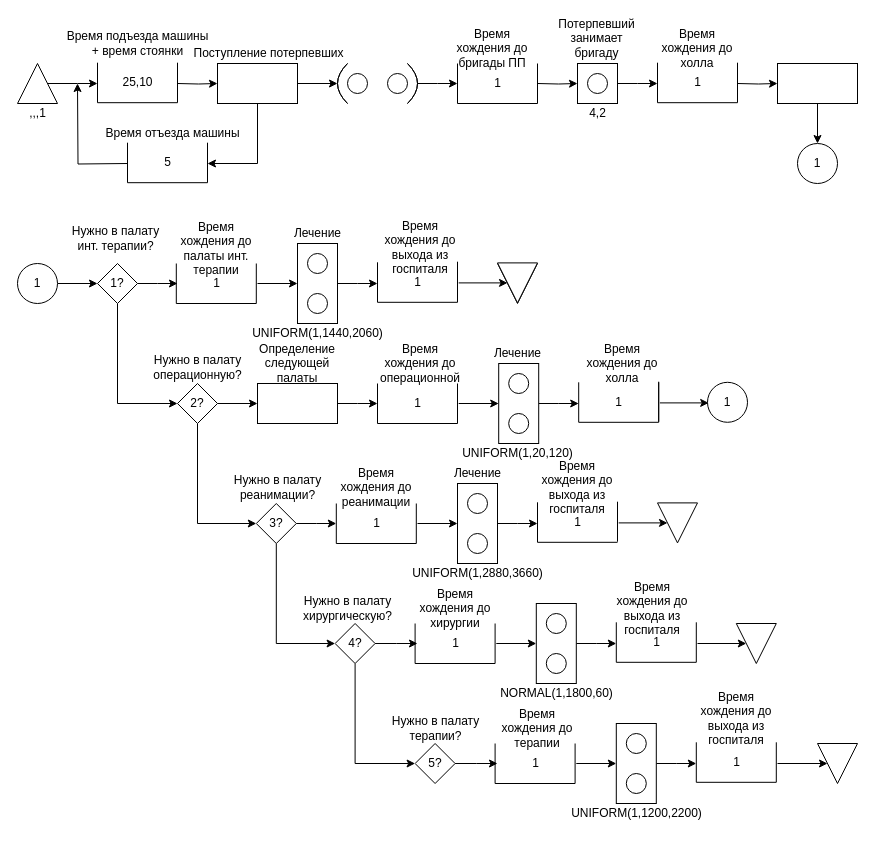
The diagram is 875 pixels wide and 841 high, and some of its shapes have lost their labels. Here are the shapes that lost their labels. From the top down, the box of each, then its label:
(216, 62, 298, 104): SPLIT FN$SEATSMEDTRANS
(776, 62, 858, 104): NeedWard
(256, 382, 338, 424): DOPHEAL
